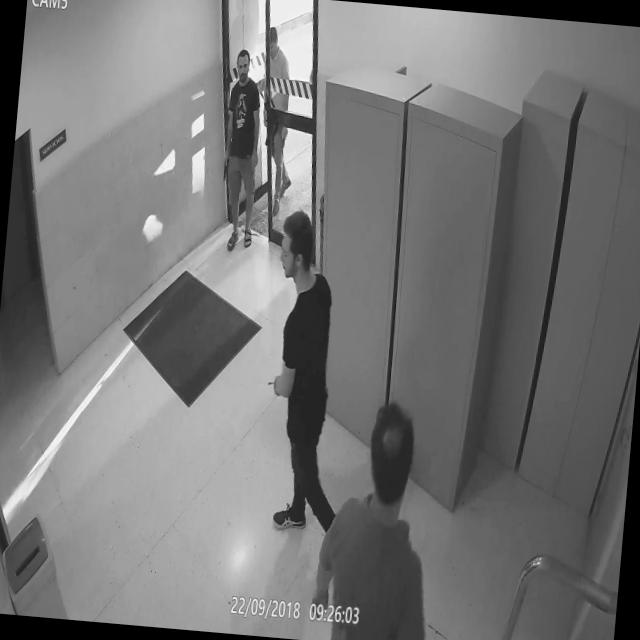gun: (220, 150, 234, 188)
person: (248, 203, 372, 553), (303, 390, 455, 640), (247, 22, 314, 216)
person with a gun: (210, 44, 278, 249)
